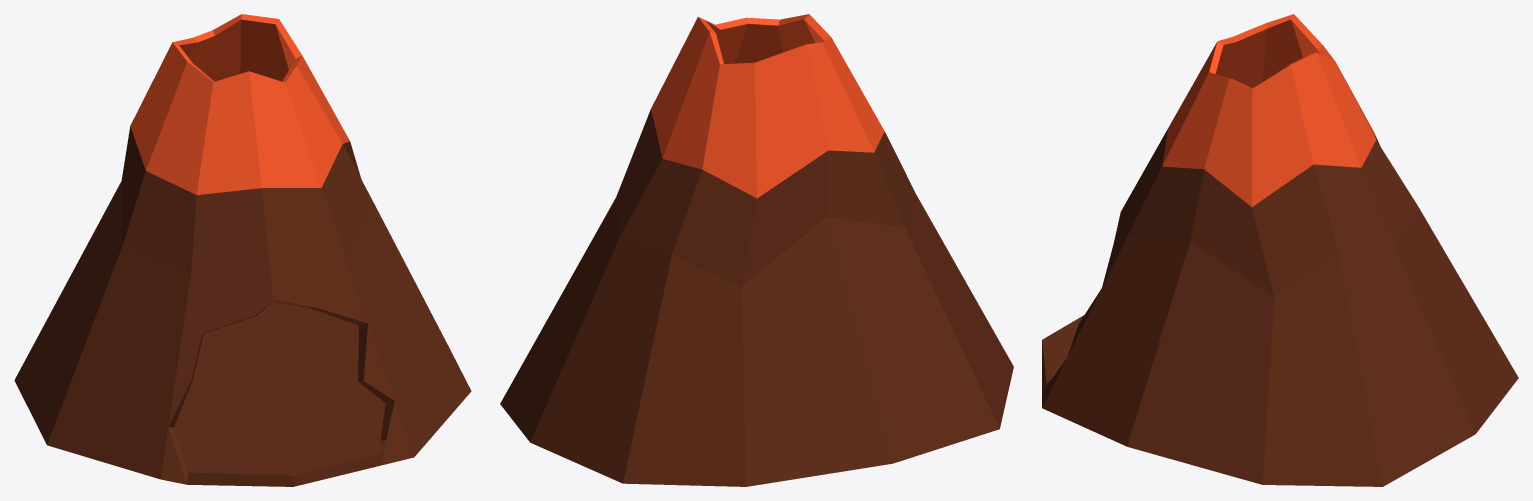
File: dVHole.fbx
The picture shows the model from 3 angles, left to right: view 1: azimuth 30°, elevation 25°; view 2: azimuth 150°, elevation 25°; view 3: azimuth 270°, elevation 25°; orthographic projection. The views are drawn at different scales.
Parts seen in each view (by area): view 1: Vhole, LaveFull; view 2: Vhole, LaveFull; view 3: Vhole, LaveFull.
Boxes of the visible parts, left/top/right/bottom form: Vhole: left=14, top=126, right=471, bottom=486; LaveFull: left=130, top=14, right=349, bottom=194; Vhole: left=500, top=109, right=1013, bottom=486; LaveFull: left=651, top=14, right=884, bottom=198; Vhole: left=1042, top=129, right=1518, bottom=486; LaveFull: left=1162, top=14, right=1376, bottom=206.
Size of the model in its own units: 192 by 163 by 197.
